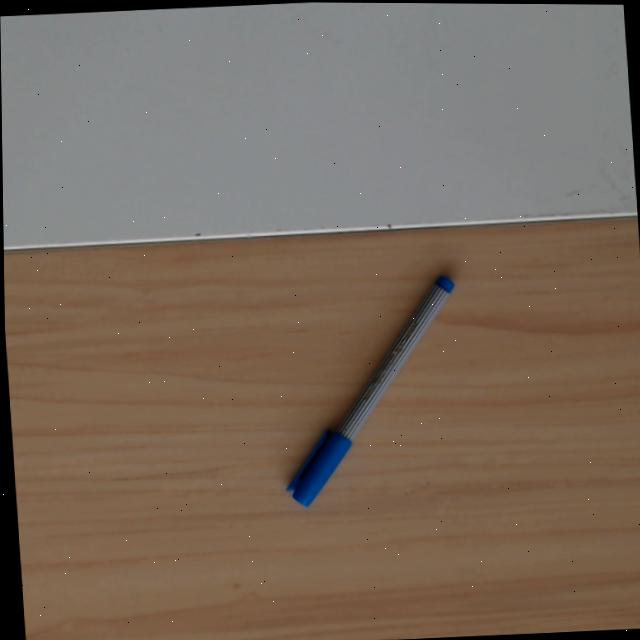Pulpen-Garis-Biru: (282, 271, 464, 512)
